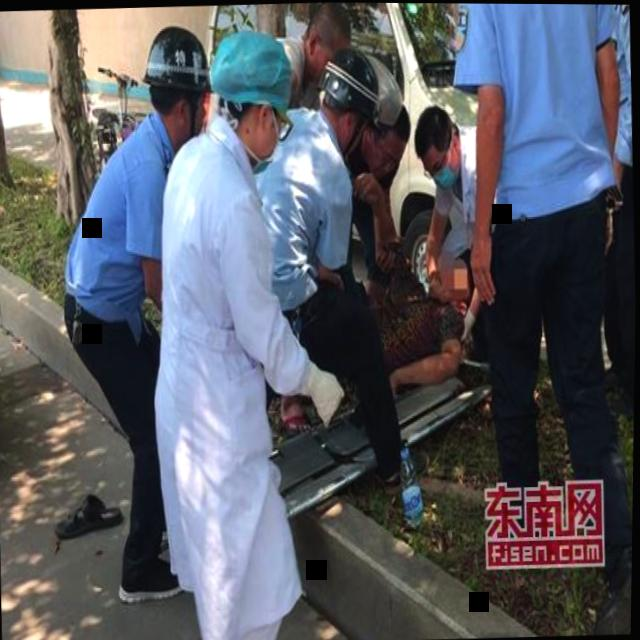Fall-Detected: (269, 204, 494, 442)
